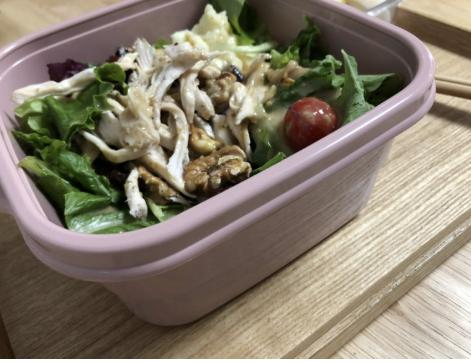Lunch Box: (0, 0, 434, 324)
